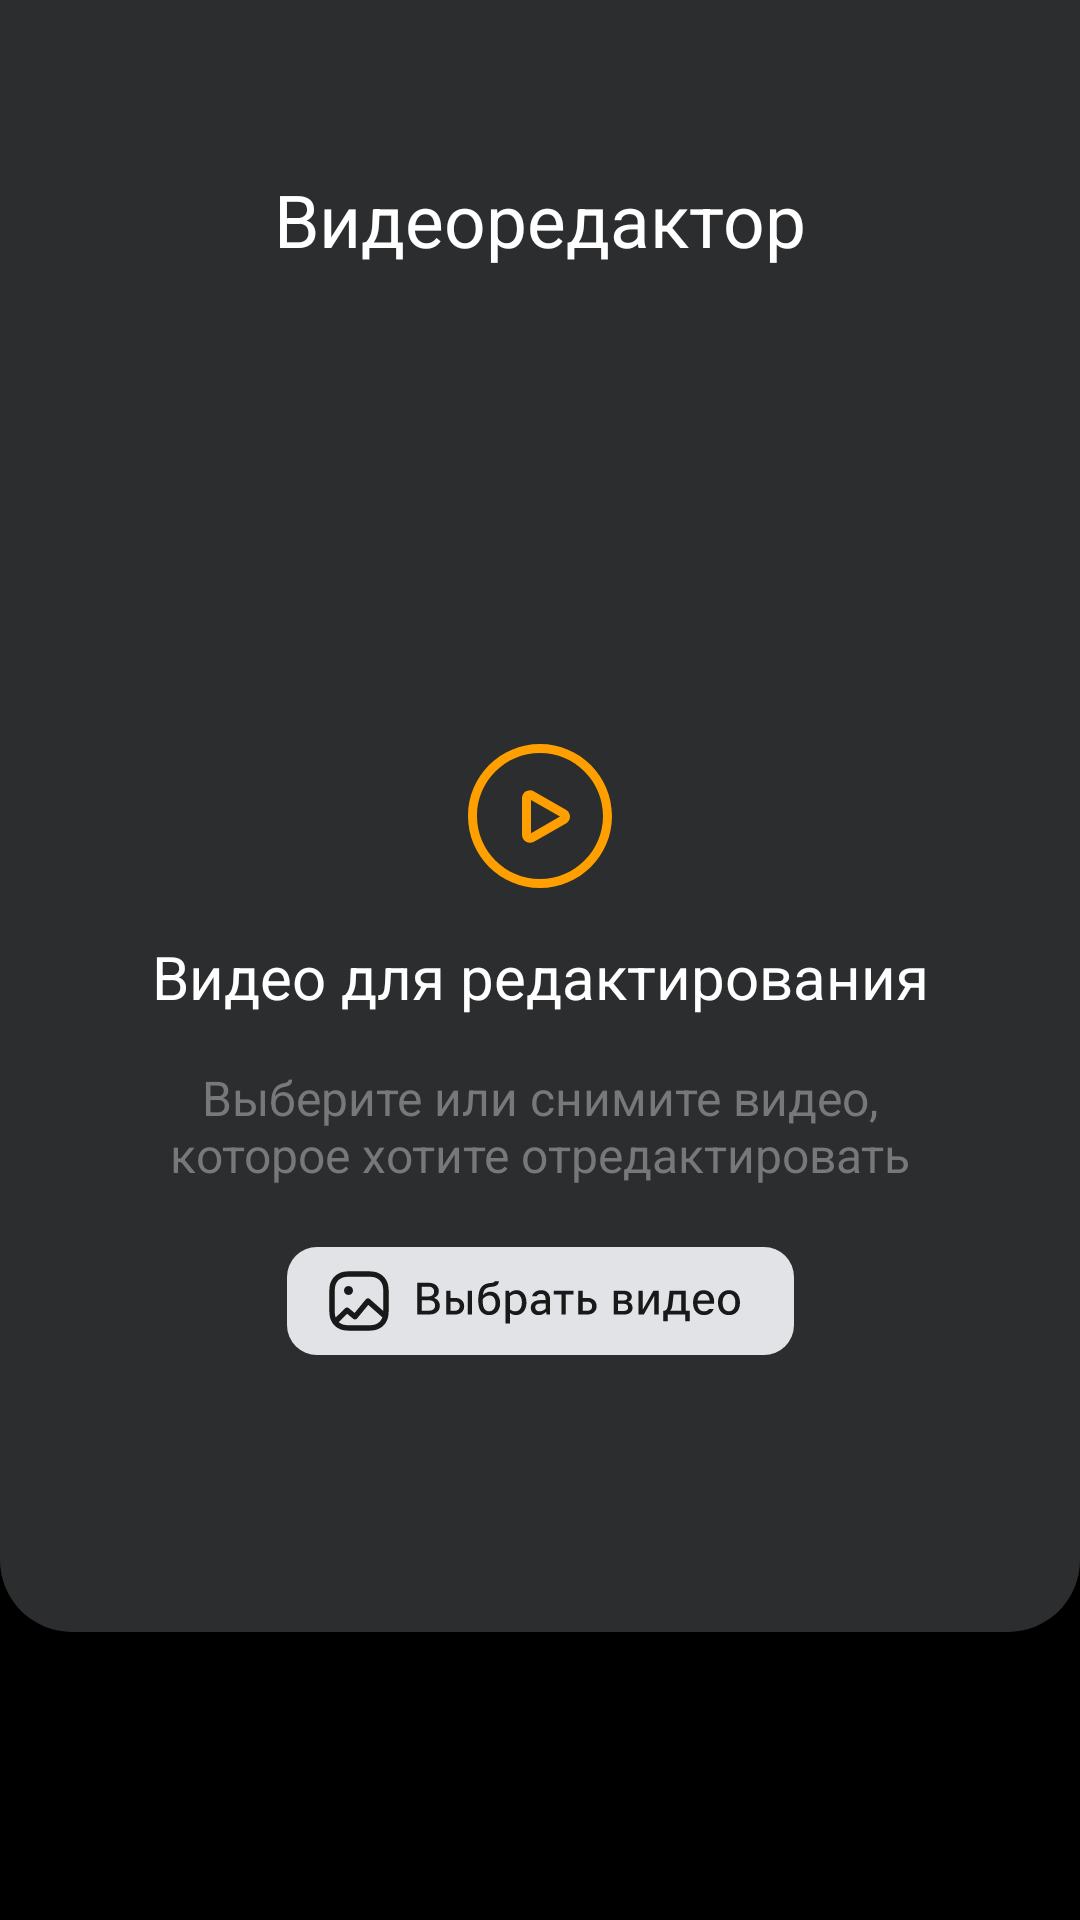

Named icons in this screenshot (1080 x 1920) and their centers, (x=x, y=y):
play: (x=540, y=816)
